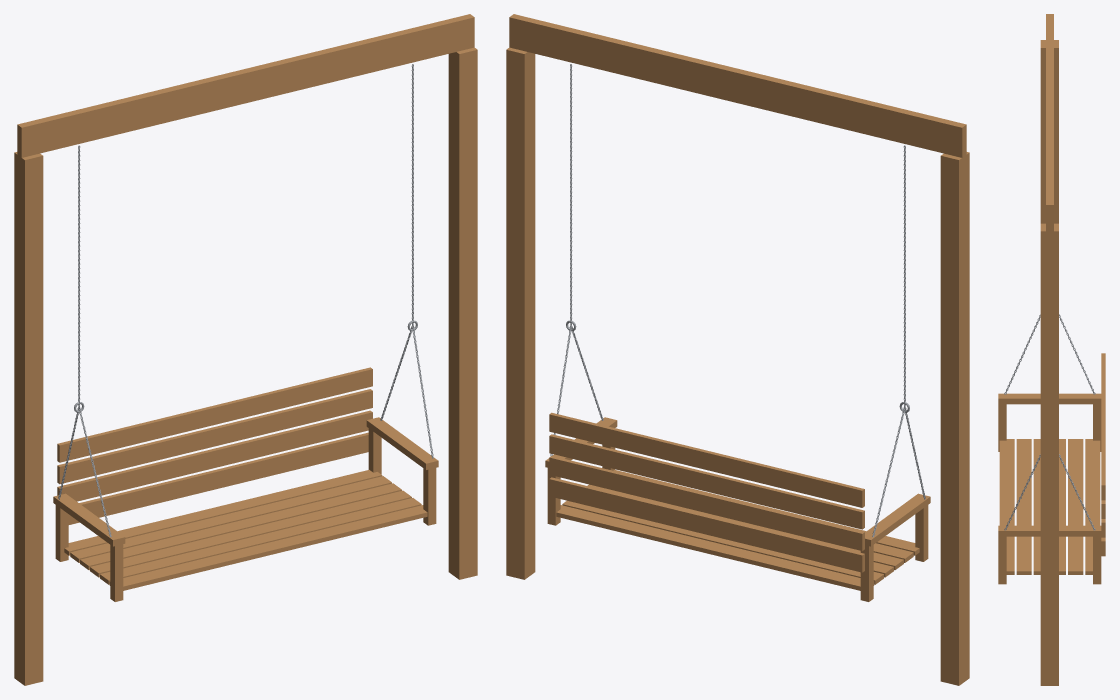
File: swing_porch.glb
3 renders of one model, left to right at view 1: azimuth 30°, elevation 25°; view 2: azimuth 150°, elevation 25°; view 3: azimuth 270°, elevation 25°, orthographic. The views are drawn at different scales.
Visible parts, largest first — view 1: bench_swing_porch, swing_porch; view 2: swing_porch, bench_swing_porch; view 3: bench_swing_porch, swing_porch.
Part boxes in pixels (box(x1,y1,x2,y2)): bench_swing_porch: box(53, 64, 438, 601); swing_porch: box(14, 14, 477, 685); swing_porch: box(506, 14, 969, 685); bench_swing_porch: box(545, 64, 930, 601); bench_swing_porch: box(998, 314, 1105, 584); swing_porch: box(1040, 14, 1058, 685).
Size of the model in its own units: 2.2 by 2.58 by 0.52.
